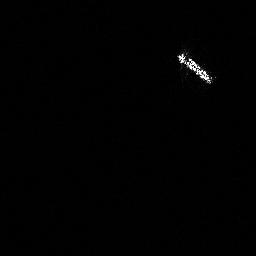ship: (175, 50, 215, 87)
